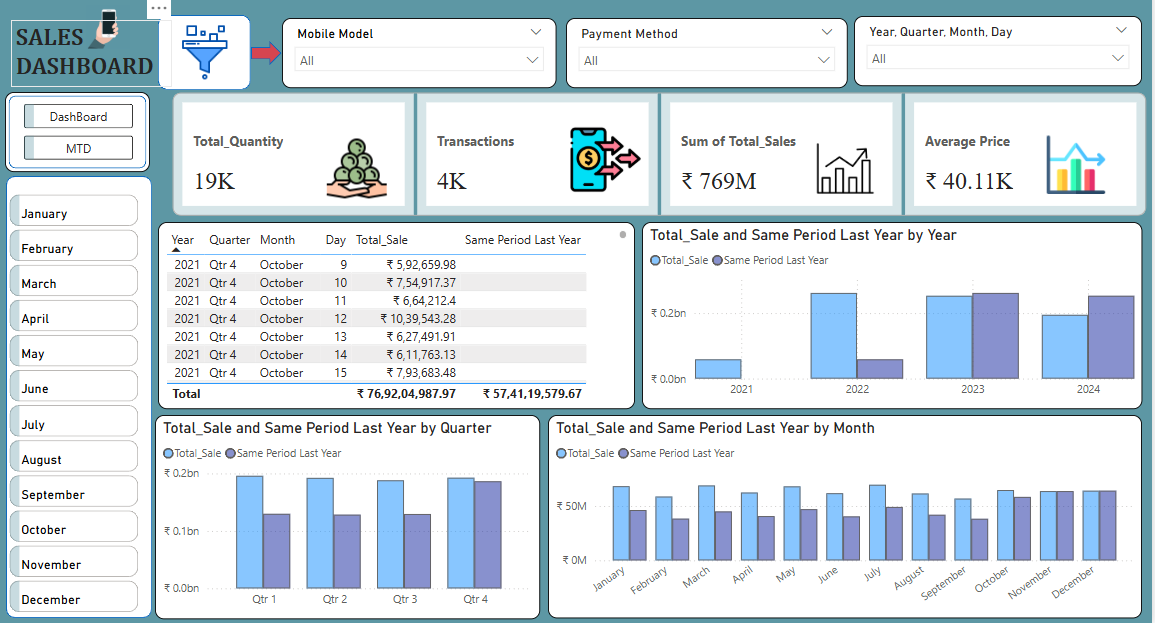

What the dashboard file says about the page in this screenshot:
{"tool":"powerbi","page":{"name":"Same Period Last Year","canvas":[1280,720],"ordinal":2},"visuals":[{"type":"shape","box":[6.7,222.2,162.2,491.1],"z":0},{"type":"advancedSlicerVisual","fields":{"Values":["Custom_Calander.Date.Variation.Date Hierarchy.Month"]},"box":[5.6,237.8,153.3,476.7],"z":1000},{"type":"cardVisual","fields":{"Data":["Sales.Total_Quantity","Sales.Transactions","Sum(Sales.Revenue)","Sales.Average Price"]},"box":[186.7,124.4,1093.3,147.8],"z":2000},{"type":"image","box":[853.3,168.9,171.1,90],"z":3000},{"type":"image","box":[338.9,173.3,115.6,81.1],"z":4000},{"type":"image","box":[1110,172.5,170,75],"z":5000},{"type":"image","box":[608.9,160,127.8,87.8],"z":6000},{"type":"slicer","fields":{"Values":["Sales.Payment Method"]},"box":[629,47,313,78],"z":7000},{"type":"slicer","fields":{"Values":["Custom_Calander.Date.Variation.Date Hierarchy.Year","Custom_Calander.Date.Variation.Date Hierarchy.Quarter","Custom_Calander.Date.Variation.Date Hierarchy.Month","Custom_Calander.Date.Variation.Date Hierarchy.Day"]},"box":[949,44,320,78],"z":8000},{"type":"shape","box":[176,43,103,83],"z":9000},{"type":"slicer","fields":{"Values":["Sales.Mobile Model"]},"box":[313,47,305,78],"z":10000},{"type":"image","box":[165,49,123,72],"z":11000},{"type":"shape","box":[279,72,34,27],"z":12000},{"type":"image","box":[76,27,89,59],"z":13000},{"type":"textbox","box":[12,49,179,74],"z":14000},{"type":"tableEx","fields":{"Values":["Custom_Calander.Date.Variation.Date Hierarchy.Year","Custom_Calander.Date.Variation.Date Hierarchy.Quarter","Custom_Calander.Date.Variation.Date Hierarchy.Month","Custom_Calander.Date.Variation.Date Hierarchy.Day","Sales.Total_Sale","Sales.Same Period Last Year"]},"box":[176,273,530,208],"z":15000},{"type":"clusteredColumnChart","fields":{"Category":["Custom_Calander.Date.Variation.Date Hierarchy.Year","Custom_Calander.Date.Variation.Date Hierarchy.Quarter","Custom_Calander.Date.Variation.Date Hierarchy.Month","Custom_Calander.Date.Variation.Date Hierarchy.Day"],"Y":["Sales.Total_Sale","Sales.Same Period Last Year"]},"box":[713,273,556,208],"z":16000},{"type":"clusteredColumnChart","fields":{"Category":["Custom_Calander.Date.Variation.Date Hierarchy.Year","Custom_Calander.Date.Variation.Date Hierarchy.Quarter","Custom_Calander.Date.Variation.Date Hierarchy.Month","Custom_Calander.Date.Variation.Date Hierarchy.Day"],"Y":["Sales.Total_Sale","Sales.Same Period Last Year"]},"box":[608.9,487.8,660,225.6],"z":17000},{"type":"clusteredColumnChart","fields":{"Category":["Custom_Calander.Date.Variation.Date Hierarchy.Year","Custom_Calander.Date.Variation.Date Hierarchy.Quarter","Custom_Calander.Date.Variation.Date Hierarchy.Month","Custom_Calander.Date.Variation.Date Hierarchy.Day"],"Y":["Sales.Total_Sale","Sales.Same Period Last Year"]},"box":[172.2,487.8,427.8,226.7],"z":18000},{"type":"shape","box":[5.6,128.9,161.1,88.9],"z":19000},{"type":"pageNavigator","box":[26.7,142.2,121.1,62.2],"z":20000}]}

Visuals, with their boxes on the page's 1280x720 design canvas (x1, y1, x2, y2). These are canvas units, not pixel positions in the 1155x623 screenshot, which may show the page scaled, cropped or inside an application window:
shape: [x1=7, y1=222, x2=169, y2=713]
advancedSlicerVisual - Custom_Calander.Date.Variation.Date Hierarchy.Month: [x1=6, y1=238, x2=159, y2=714]
cardVisual - Sales.Total_Quantity x Sales.Transactions: [x1=187, y1=124, x2=1280, y2=272]
image: [x1=853, y1=169, x2=1024, y2=259]
image: [x1=339, y1=173, x2=454, y2=254]
image: [x1=1110, y1=172, x2=1280, y2=248]
image: [x1=609, y1=160, x2=737, y2=248]
slicer - Sales.Payment Method: [x1=629, y1=47, x2=942, y2=125]
slicer - Custom_Calander.Date.Variation.Date Hierarchy.Year x Custom_Calander.Date.Variation.Date Hierarchy.Quarter: [x1=949, y1=44, x2=1269, y2=122]
shape: [x1=176, y1=43, x2=279, y2=126]
slicer - Sales.Mobile Model: [x1=313, y1=47, x2=618, y2=125]
image: [x1=165, y1=49, x2=288, y2=121]
shape: [x1=279, y1=72, x2=313, y2=99]
image: [x1=76, y1=27, x2=165, y2=86]
textbox: [x1=12, y1=49, x2=191, y2=123]
tableEx - Custom_Calander.Date.Variation.Date Hierarchy.Year x Custom_Calander.Date.Variation.Date Hierarchy.Quarter: [x1=176, y1=273, x2=706, y2=481]
clusteredColumnChart - Custom_Calander.Date.Variation.Date Hierarchy.Year x Custom_Calander.Date.Variation.Date Hierarchy.Quarter: [x1=713, y1=273, x2=1269, y2=481]
clusteredColumnChart - Custom_Calander.Date.Variation.Date Hierarchy.Year x Custom_Calander.Date.Variation.Date Hierarchy.Quarter: [x1=609, y1=488, x2=1269, y2=713]
clusteredColumnChart - Custom_Calander.Date.Variation.Date Hierarchy.Year x Custom_Calander.Date.Variation.Date Hierarchy.Quarter: [x1=172, y1=488, x2=600, y2=714]
shape: [x1=6, y1=129, x2=167, y2=218]
pageNavigator: [x1=27, y1=142, x2=148, y2=204]
